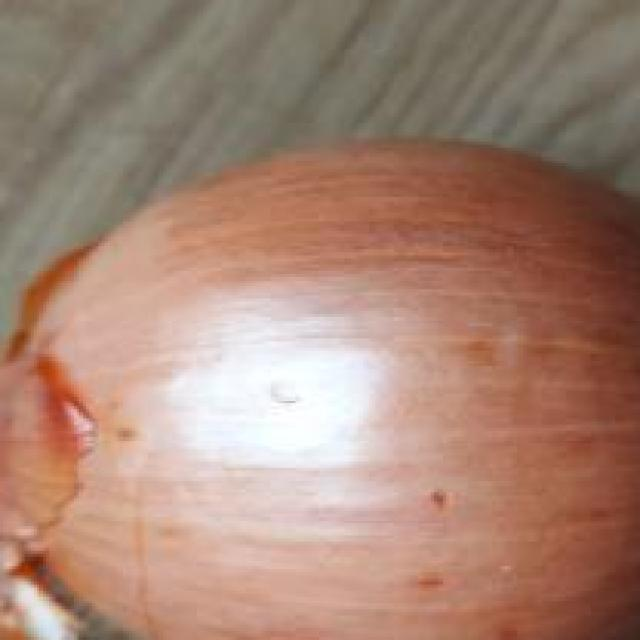onion: (0, 135, 640, 640)
